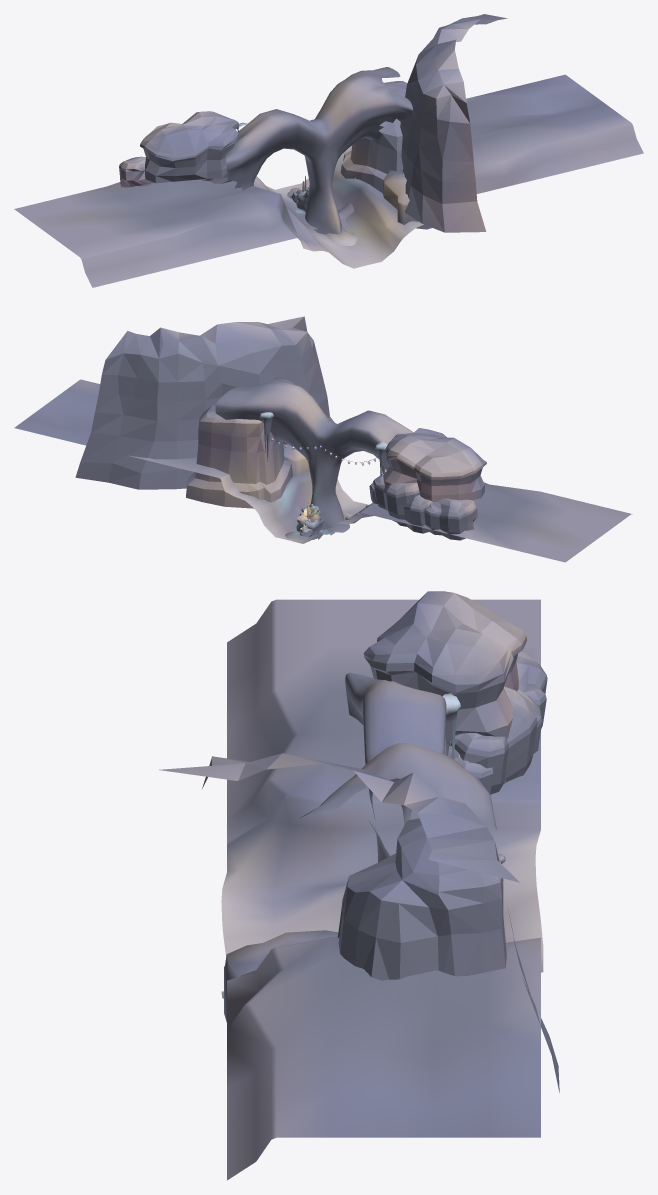
The model's file is Arctic_Luge_Straight_CenterObstacle_A.glb.
The picture shows the model from 3 angles, top to bottom: view 1: azimuth 30°, elevation 25°; view 2: azimuth 150°, elevation 25°; view 3: azimuth 270°, elevation 25°; orthographic projection. The views are drawn at different scales.
Visible parts, largest first — view 1: Arctic_Luge_Straight_CenterObstacle_A, Arctic_Luge_IceWall_prop, Arctic_Luge_MediumRock_prop, Arctic_Luge_TallIceRock_prop, Arctic_Luge_SmalRock_prop (3); view 2: Arctic_Luge_Straight_CenterObstacle_A, Arctic_Luge_IceWall_prop, Arctic_Luge_TallIceRock_prop, Arctic_Luge_MediumRock_prop, Arctic_Luge_SmalRock_prop (3), Arctic_Luge_SmalRock_prop (2), Arctic_Luge_SmalRock_prop (1); view 3: Arctic_Luge_Straight_CenterObstacle_A, Arctic_Luge_TallIceRock_prop, Arctic_Luge_MediumRock_prop, Arctic_Luge_IceWall_prop, Arctic_Luge_SmalRock_prop (2), Arctic_Luge_SmalRock_prop (3).
Boxes of the visible parts, left/top/right/bottom form: Arctic_Luge_Straight_CenterObstacle_A: left=14, top=67, right=643, bottom=287; Arctic_Luge_IceWall_prop: left=400, top=14, right=507, bottom=232; Arctic_Luge_MediumRock_prop: left=140, top=111, right=238, bottom=183; Arctic_Luge_TallIceRock_prop: left=340, top=81, right=407, bottom=192; Arctic_Luge_SmalRock_prop (3): left=119, top=156, right=153, bottom=188; Arctic_Luge_Straight_CenterObstacle_A: left=14, top=376, right=632, bottom=562; Arctic_Luge_IceWall_prop: left=75, top=316, right=334, bottom=489; Arctic_Luge_TallIceRock_prop: left=186, top=405, right=292, bottom=508; Arctic_Luge_MediumRock_prop: left=383, top=428, right=486, bottom=502; Arctic_Luge_SmalRock_prop (3): left=424, top=498, right=477, bottom=540; Arctic_Luge_SmalRock_prop (2): left=373, top=474, right=419, bottom=523; Arctic_Luge_SmalRock_prop (1): left=397, top=495, right=432, bottom=533; Arctic_Luge_Straight_CenterObstacle_A: left=221, top=599, right=543, bottom=1180; Arctic_Luge_TallIceRock_prop: left=337, top=818, right=506, bottom=980; Arctic_Luge_MediumRock_prop: left=363, top=591, right=526, bottom=738; Arctic_Luge_IceWall_prop: left=159, top=753, right=559, bottom=1092; Arctic_Luge_SmalRock_prop (2): left=449, top=686, right=537, bottom=794; Arctic_Luge_SmalRock_prop (3): left=516, top=651, right=547, bottom=728.
Size of what is drawn, in the model's own units: 25.98 by 8.05 by 9.93.
